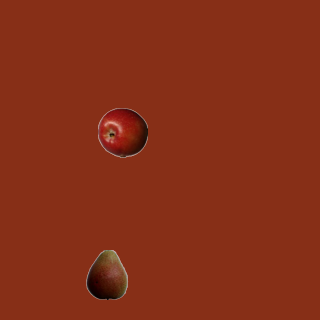Apple Braeburn: (97, 107, 147, 157)
Pear Forelle: (81, 249, 131, 299)
